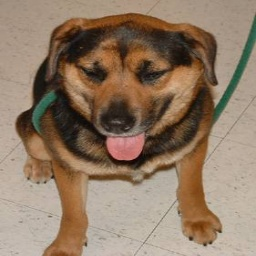dog: (11, 11, 226, 254)
